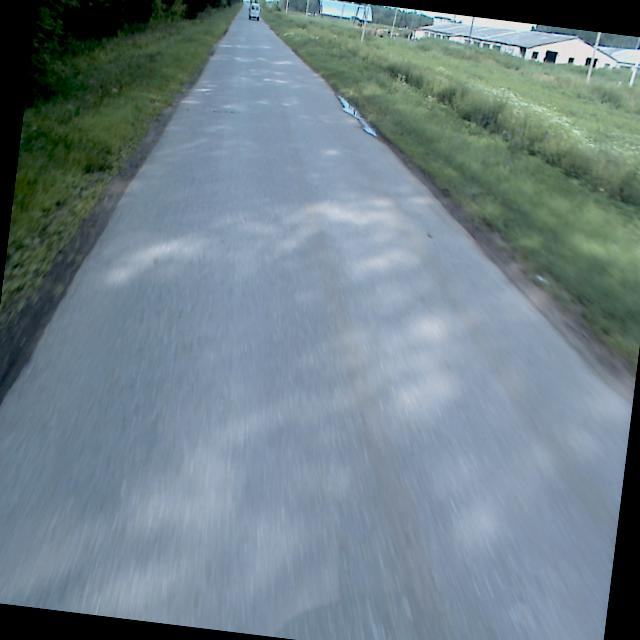road: (0, 1, 631, 640)
